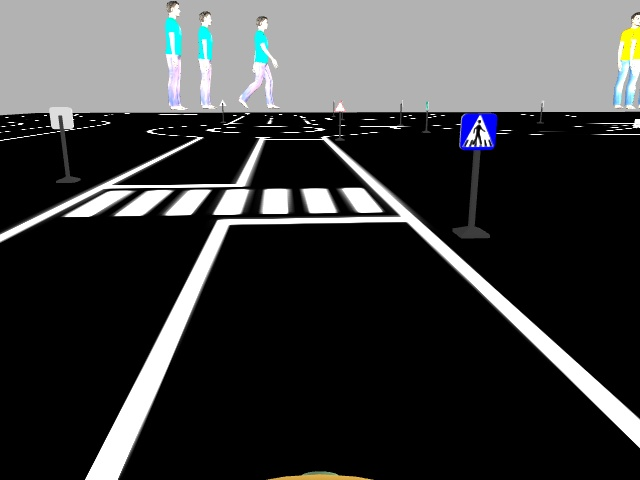Crosswalk: (457, 112, 498, 149)
